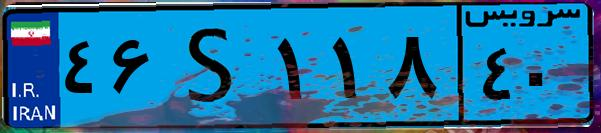0: (525, 38, 570, 115)
1: (270, 28, 330, 110), (330, 28, 385, 110)
4: (57, 26, 110, 100), (475, 38, 525, 113)
6: (110, 28, 158, 98)
8: (385, 28, 445, 110)
S: (158, 12, 270, 120)
